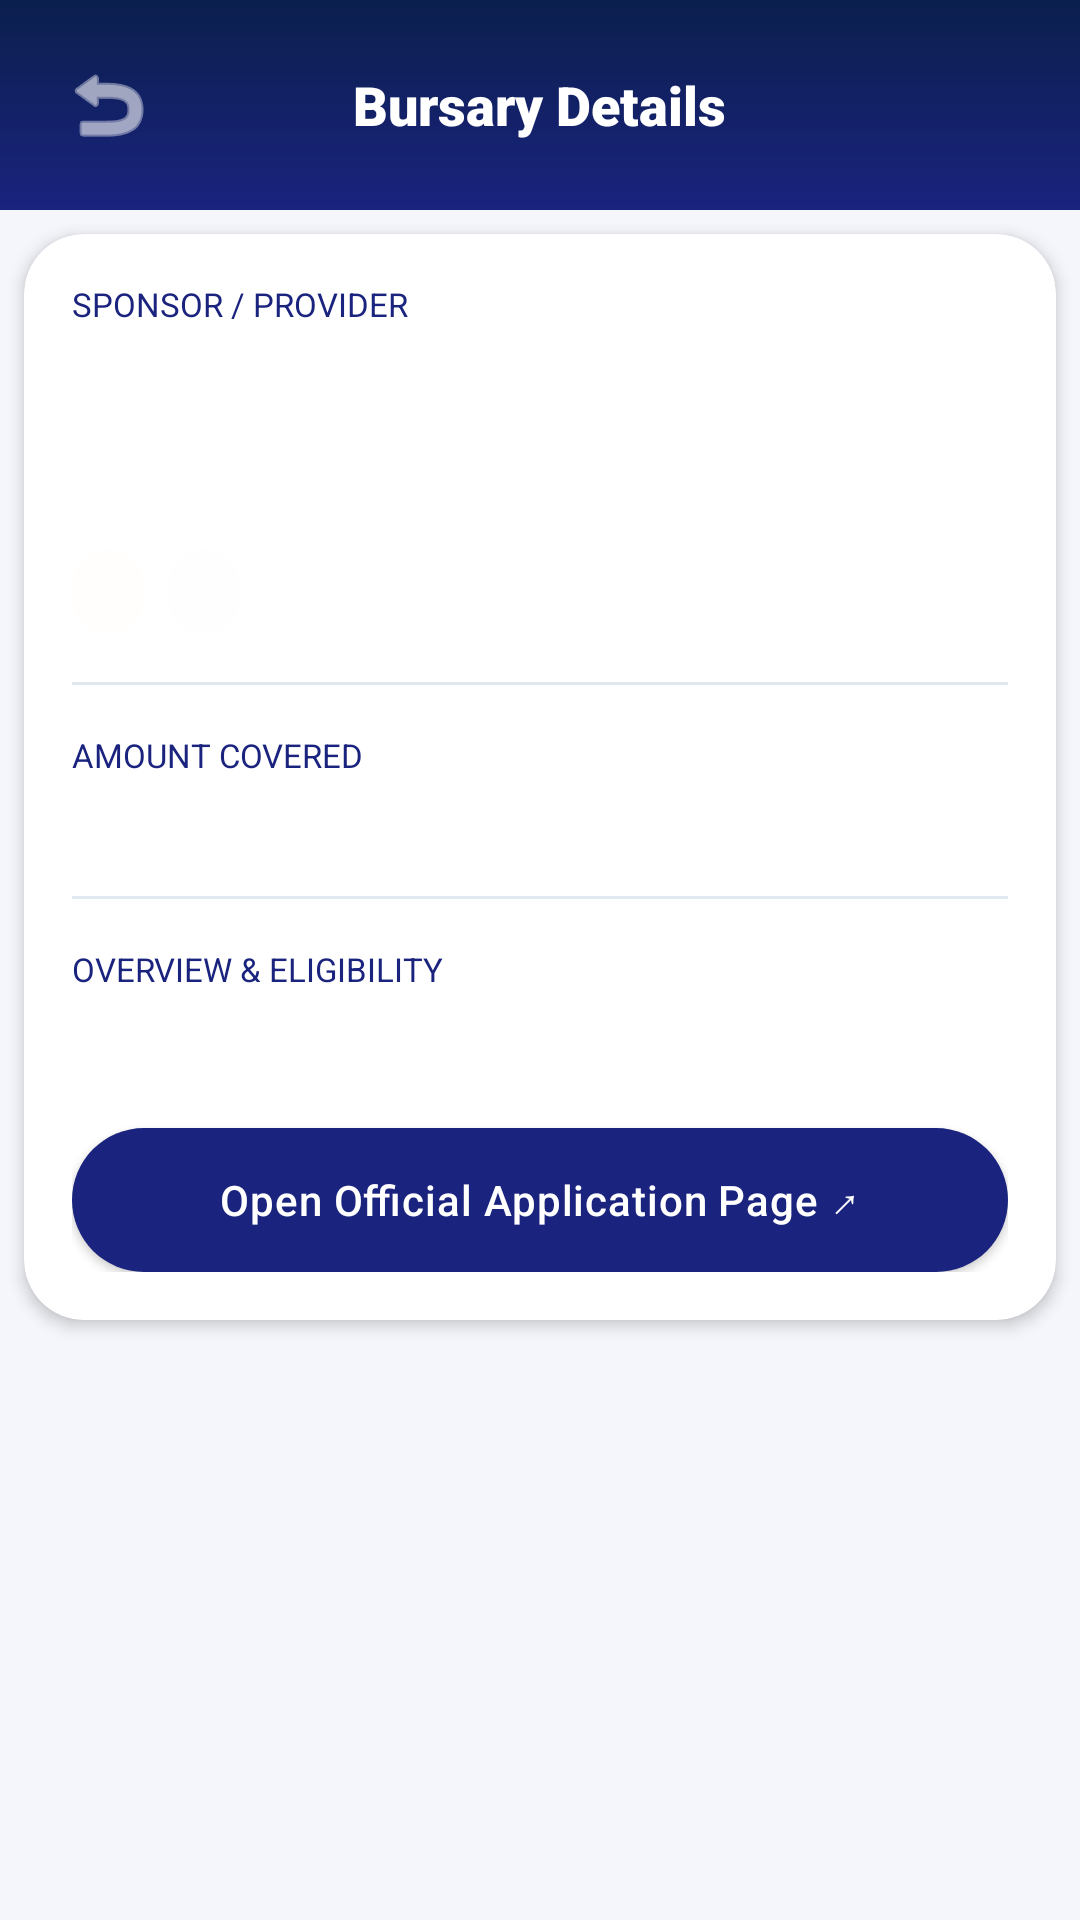

Icons on this 1080w x 1920h Android screen, each with its box as (left=x1, top=y1, right=x2, bottom=y2):
revert: (left=75, top=74, right=144, bottom=137)
